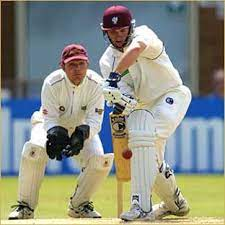bottom left: (112, 175, 124, 186)
bottom right: (127, 174, 137, 186)
top left: (104, 108, 116, 119)
top right: (121, 110, 129, 121)
